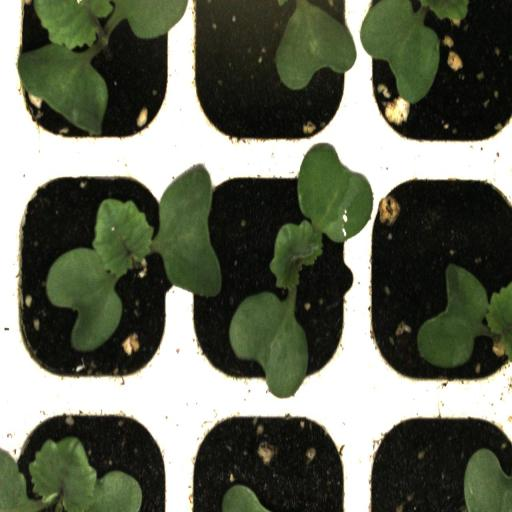seedling: (184, 155, 366, 401), (4, 157, 183, 398), (367, 154, 512, 392), (5, 0, 183, 157)
